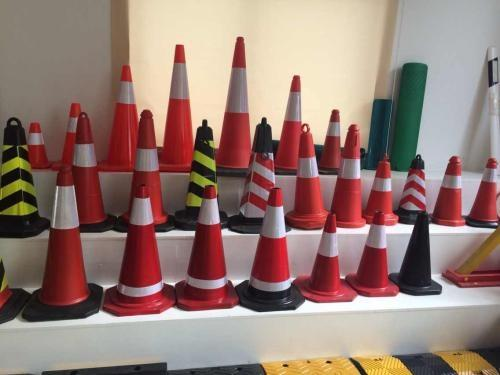cone_barrel: (33, 166, 92, 308), (107, 183, 167, 307), (177, 185, 232, 303), (243, 187, 295, 301), (213, 41, 255, 179), (126, 113, 168, 234), (159, 47, 197, 171), (67, 109, 105, 227), (237, 117, 278, 226), (102, 68, 141, 180), (181, 119, 223, 220), (288, 126, 327, 231), (329, 123, 366, 231), (395, 207, 436, 291), (302, 212, 343, 296), (274, 77, 305, 177), (351, 210, 390, 289), (431, 154, 466, 227), (465, 155, 498, 227), (362, 155, 395, 224), (395, 153, 429, 217), (318, 106, 343, 176), (26, 119, 50, 168)
